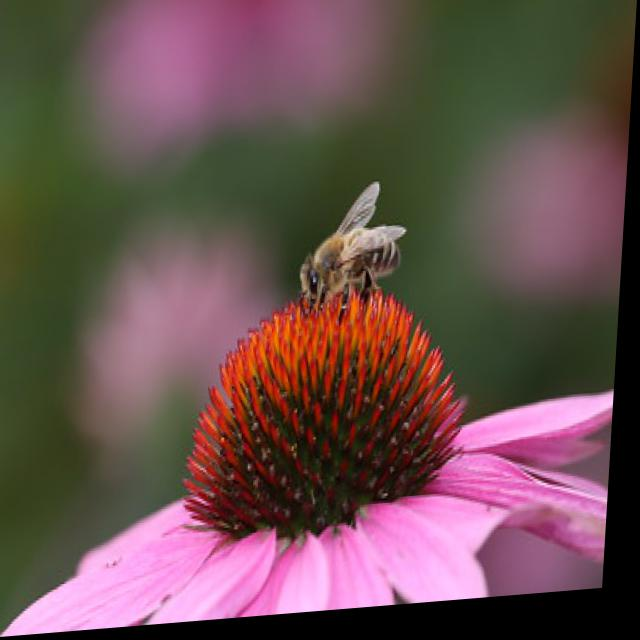Abeille: (288, 168, 414, 325)
